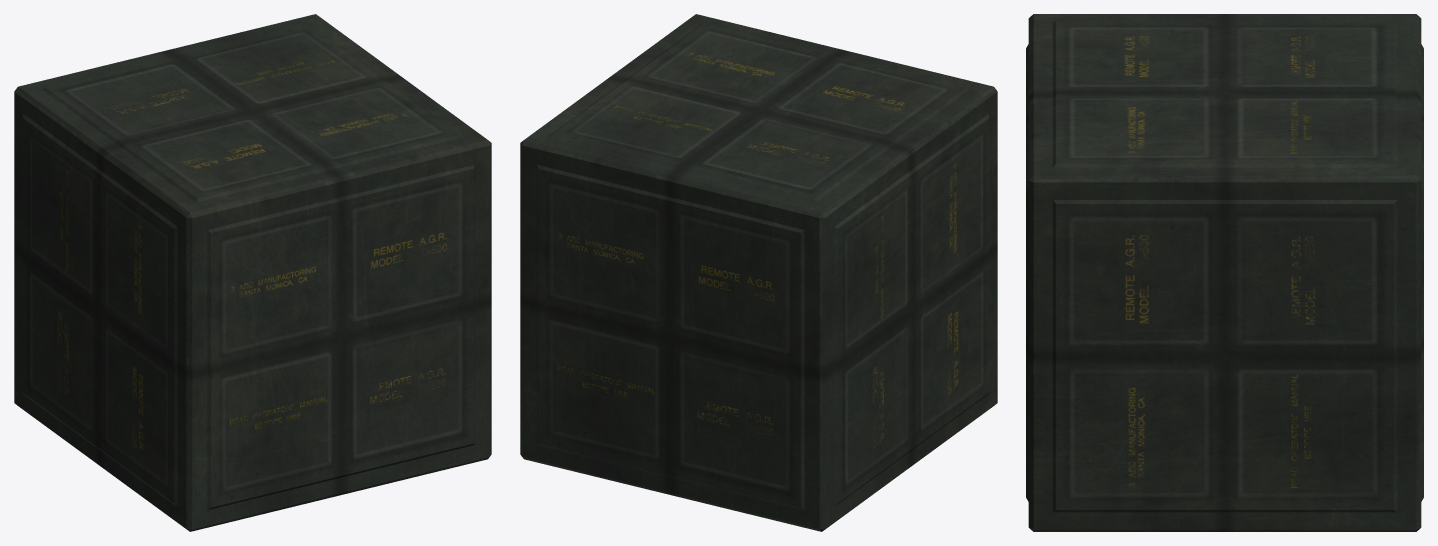
Rendered from t6_wpn_drop_box_LOD0.obj.
3 views of the same model, side by side, from view 1: azimuth 30°, elevation 25°; view 2: azimuth 150°, elevation 25°; view 3: azimuth 270°, elevation 25° (orthographic). The views are drawn at different scales.
Visible parts, largest first — view 1: mtl_t6_wpn_drop_box; view 2: mtl_t6_wpn_drop_box; view 3: mtl_t6_wpn_drop_box.
Boxes of the visible parts, left/top/right/bottom form: mtl_t6_wpn_drop_box: left=14, top=14, right=491, bottom=531; mtl_t6_wpn_drop_box: left=520, top=14, right=997, bottom=531; mtl_t6_wpn_drop_box: left=1026, top=14, right=1423, bottom=531.
Bounding box in the file's own units: 123 × 123 × 123.
